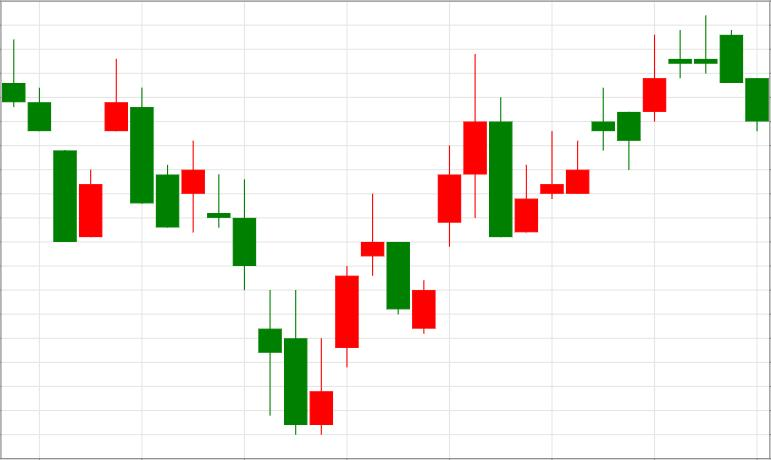inverse_hammer_rise: (208, 174, 333, 436)
shooting_star_fall: (515, 35, 667, 232)
